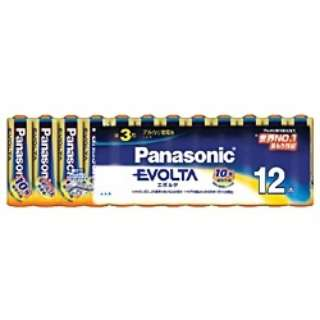Battery: (6, 113, 34, 208), (33, 113, 58, 209), (59, 113, 84, 209)
